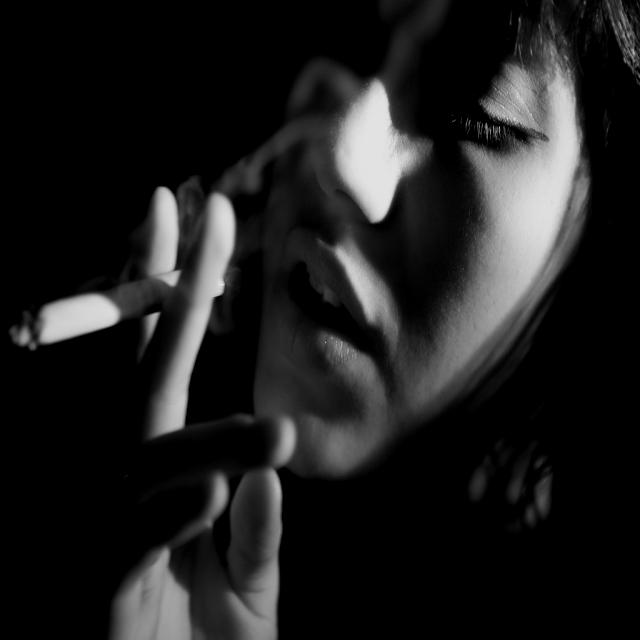cigarette: (5, 260, 184, 358)
